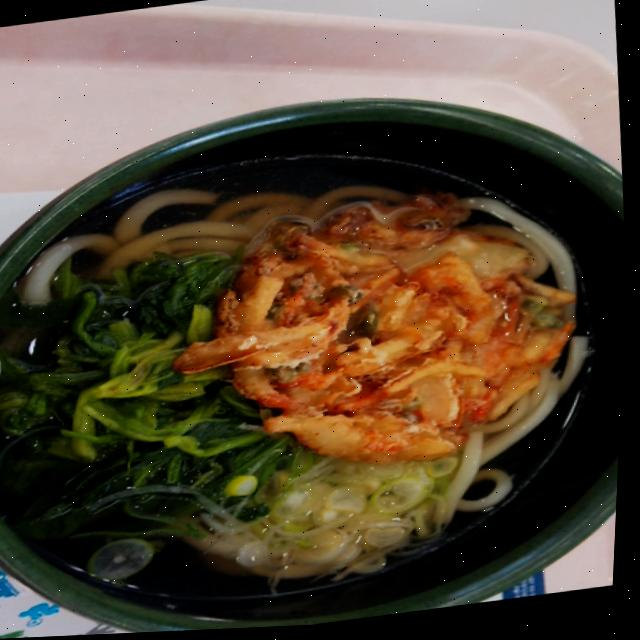面条主食: (0, 76, 637, 640)
